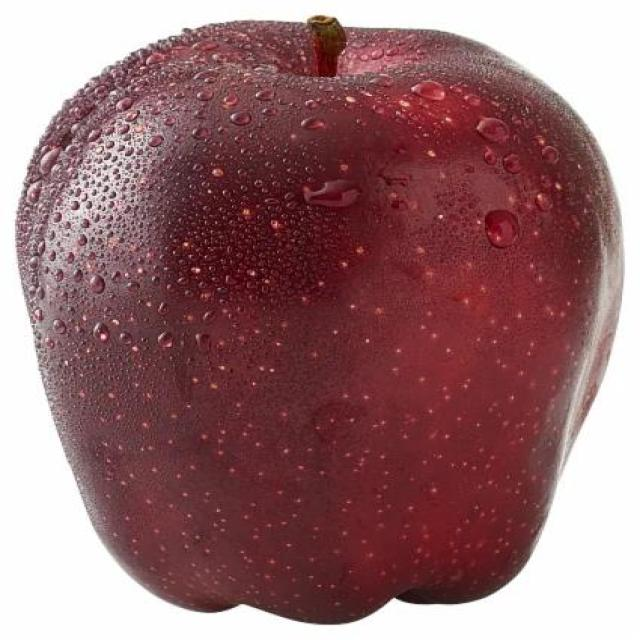Rotten Apple: (15, 21, 619, 614)
